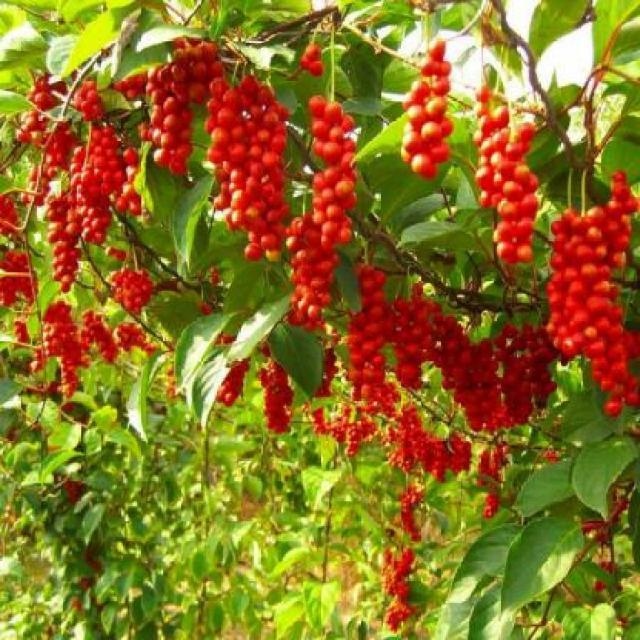RIPE: (563, 202, 634, 422), (293, 97, 350, 320), (214, 68, 283, 251), (475, 88, 540, 268), (40, 154, 123, 283), (349, 249, 391, 442), (397, 37, 454, 177), (441, 300, 497, 438), (148, 63, 197, 165), (39, 305, 85, 406), (396, 283, 436, 386), (506, 320, 548, 418), (375, 536, 411, 639), (395, 406, 440, 486), (0, 196, 23, 310), (256, 367, 290, 436), (474, 443, 501, 520)
